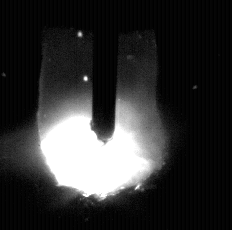arame: (92, 0, 117, 144)
poca: (38, 0, 168, 230)
